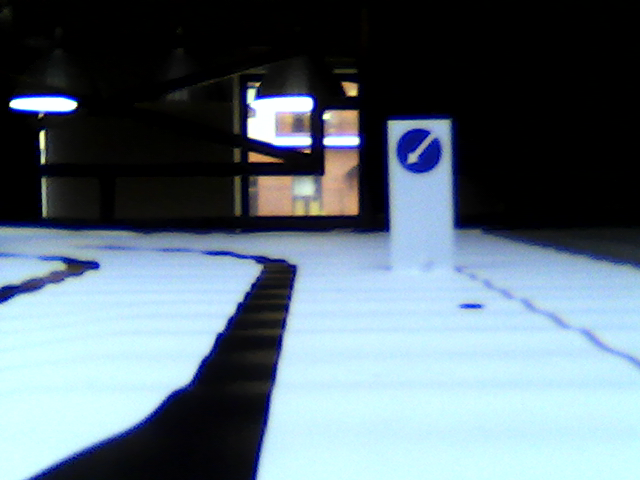prep: (396, 128, 442, 173)
